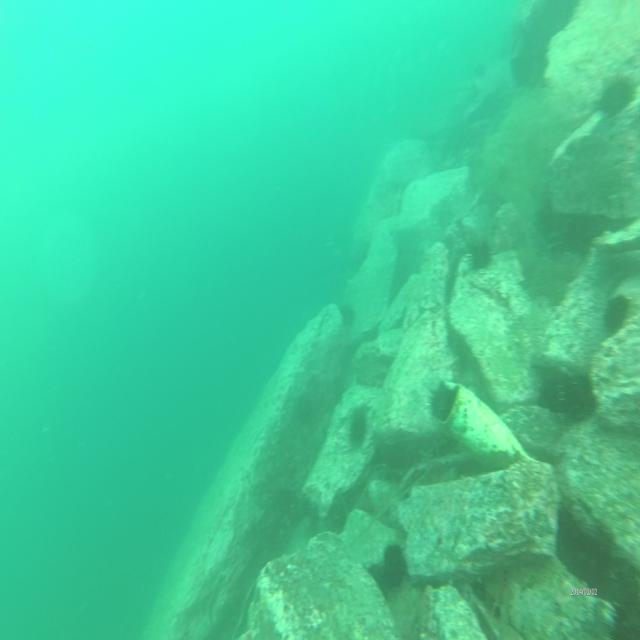echinus: (597, 76, 634, 120), (381, 538, 410, 592), (604, 291, 632, 336), (426, 381, 456, 420), (468, 235, 492, 271), (349, 409, 368, 452), (294, 394, 313, 430), (337, 300, 355, 330)
